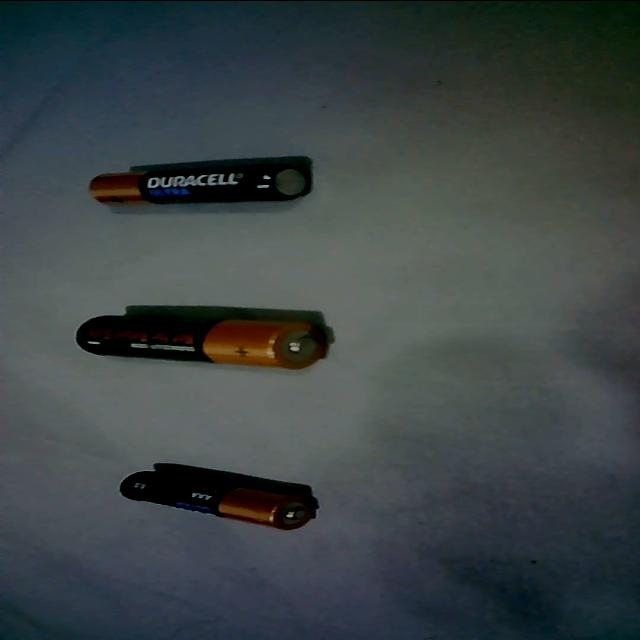AA: (66, 305, 334, 374)
AAA: (110, 464, 319, 535), (83, 150, 317, 210)
